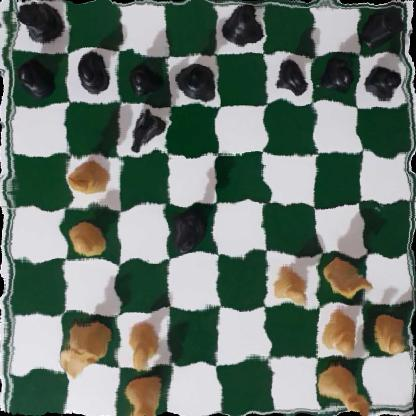black-bishop: (174, 62, 221, 104)
black-king: (221, 2, 263, 49)
black-knight: (128, 104, 168, 153)
black-pawn: (16, 56, 57, 96), (362, 61, 402, 98), (317, 58, 354, 98), (75, 54, 110, 92), (271, 59, 305, 98), (129, 57, 162, 96)
black-queen: (169, 204, 211, 258)
black-rook: (11, 0, 66, 45), (362, 8, 406, 48)
white-bishop: (125, 371, 166, 416), (69, 157, 112, 199)
white-king: (319, 360, 369, 416)
white-knight: (322, 256, 375, 300)
white-pawn: (122, 319, 164, 368), (65, 219, 112, 261), (371, 308, 411, 355), (272, 260, 312, 307), (321, 312, 360, 357)
white-rook: (59, 318, 112, 380)
